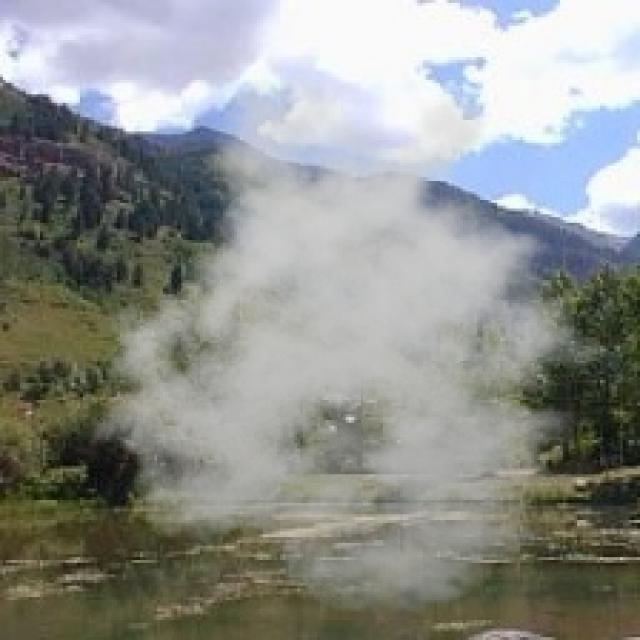smoke: (74, 71, 637, 614)
